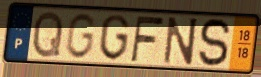F: (129, 14, 166, 63)
G: (63, 11, 98, 61), (98, 13, 131, 63)
N: (162, 15, 200, 66)
Q: (30, 9, 65, 60)
S: (197, 16, 232, 69)
